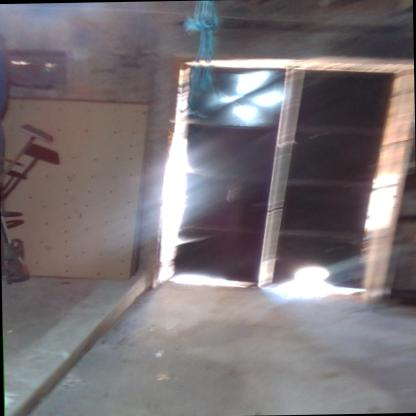closed: (152, 40, 410, 301)
